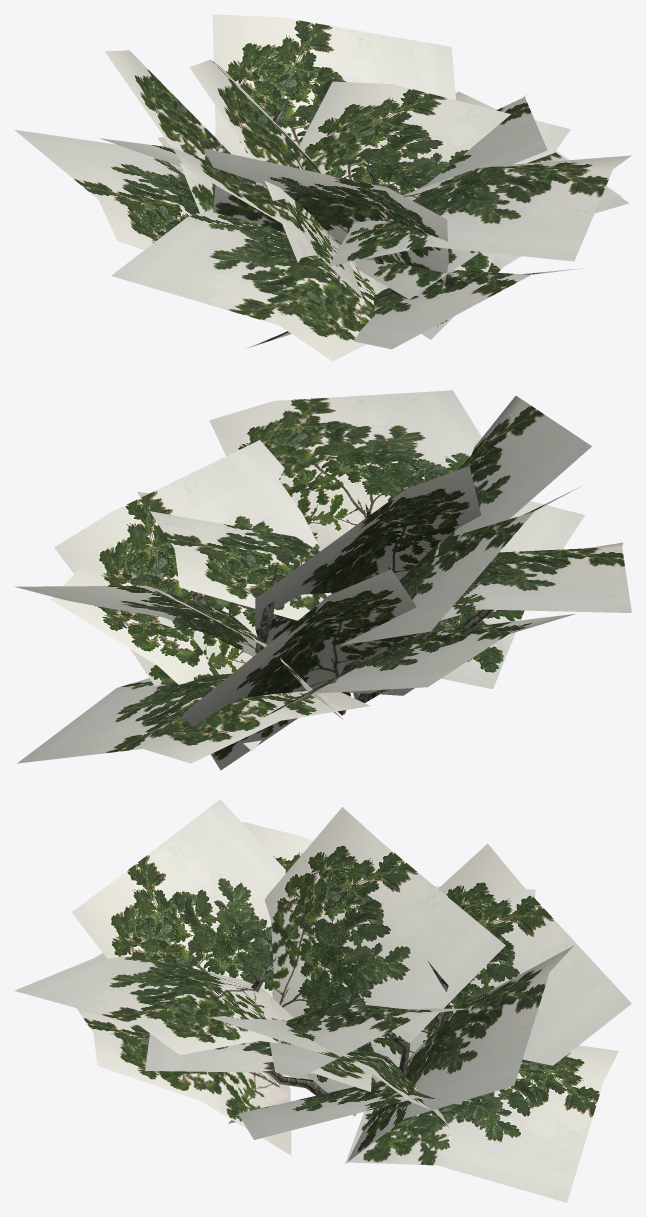
File: kust_3.fbx
The picture shows the model from 3 angles, top to bottom: view 1: azimuth 30°, elevation 25°; view 2: azimuth 150°, elevation 25°; view 3: azimuth 270°, elevation 25°; orthographic projection. The views are drawn at different scales.
Visible parts, largest first — view 1: Detal326; view 2: Detal326; view 3: Detal326.
Part boxes in pixels (x1,y1,x2,y2): Detal326: (14, 14, 631, 361); Detal326: (14, 390, 631, 770); Detal326: (14, 799, 631, 1202).
Bounding box in the file's own units: 2490 × 1421 × 2967.
